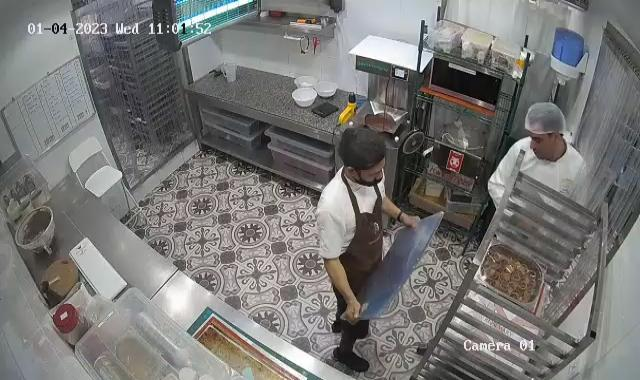hairnet: (523, 101, 566, 143)
no_hairnet: (338, 124, 388, 174)
